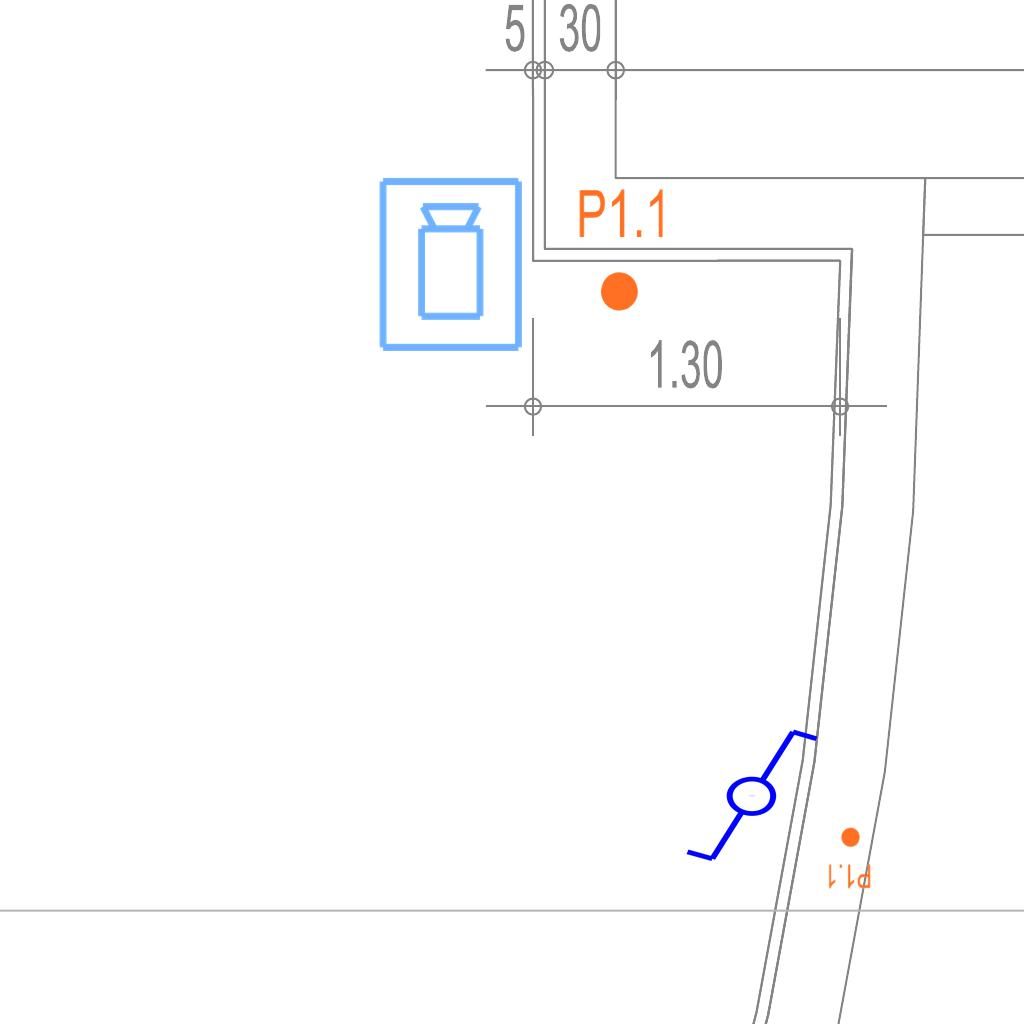Downlight_LED_Einbauleuchten_Flur: (576, 186, 669, 314), (826, 826, 872, 890)
KFO_Kamera_mit_Festobjektiv: (375, 174, 529, 356)
Wechselschalter: (665, 722, 822, 866)
